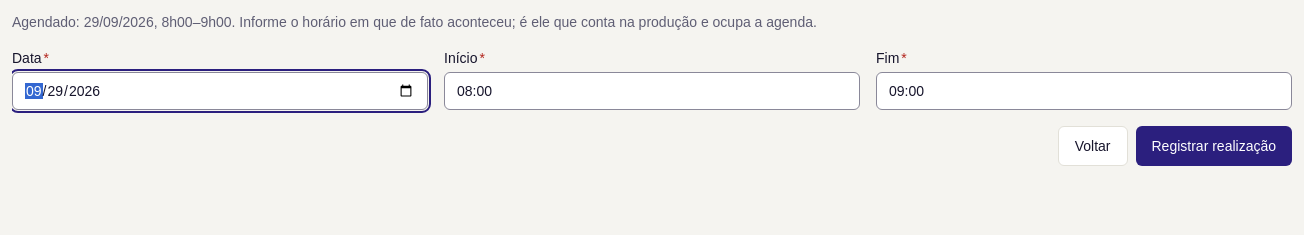
Scenario: RealizacaoDialog › Erro_409_da_api_aparece_no_alerta
Click the button "Registrar realização".
click(1214, 146)  # box x1=1136 y1=126 x2=1292 y2=166
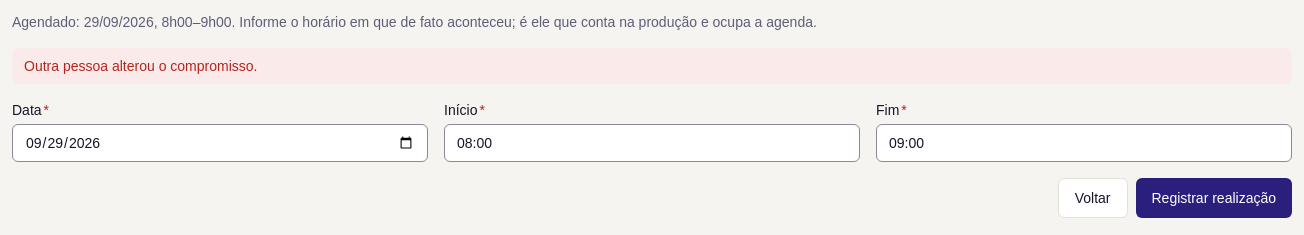
Result: the message shows "Outra pessoa alterou" at x1=24 y1=58 x2=258 y2=74
